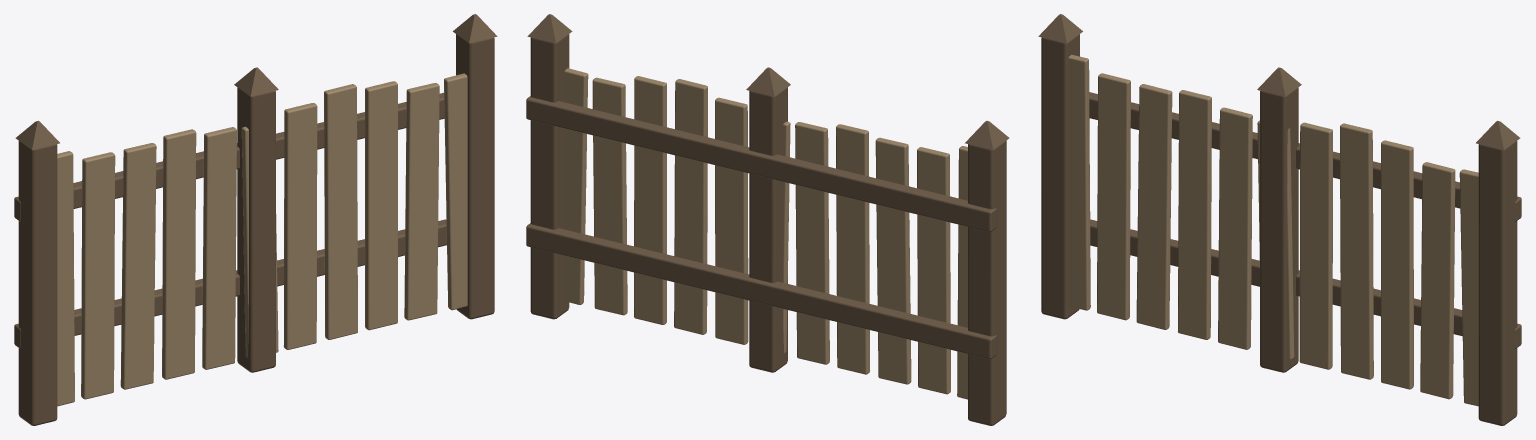
File: wood-fence.glb
3 views of the same model, side by side, from view 1: azimuth 30°, elevation 25°; view 2: azimuth 150°, elevation 25°; view 3: azimuth 330°, elevation 25° (orthographic).
Parts seen in each view (by area): view 1: planks, planks-dark; view 2: planks, planks-dark; view 3: planks, planks-dark.
Boxes of the visible parts, x1,y1,x2,y2 form: planks: (57,73,467,406); planks-dark: (14,14,497,425); planks: (564,68,967,399); planks-dark: (526,14,1009,425); planks: (1068,54,1478,406); planks-dark: (1038,14,1521,425).
Size of the model in its own units: 2.3 by 1.4 by 0.1607.
